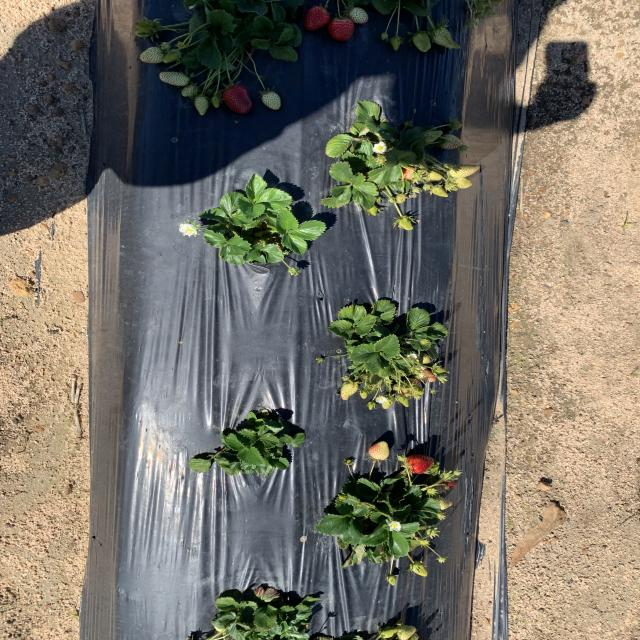unripe: (223, 84, 254, 112), (304, 6, 331, 30), (329, 18, 355, 42), (407, 454, 434, 472)
